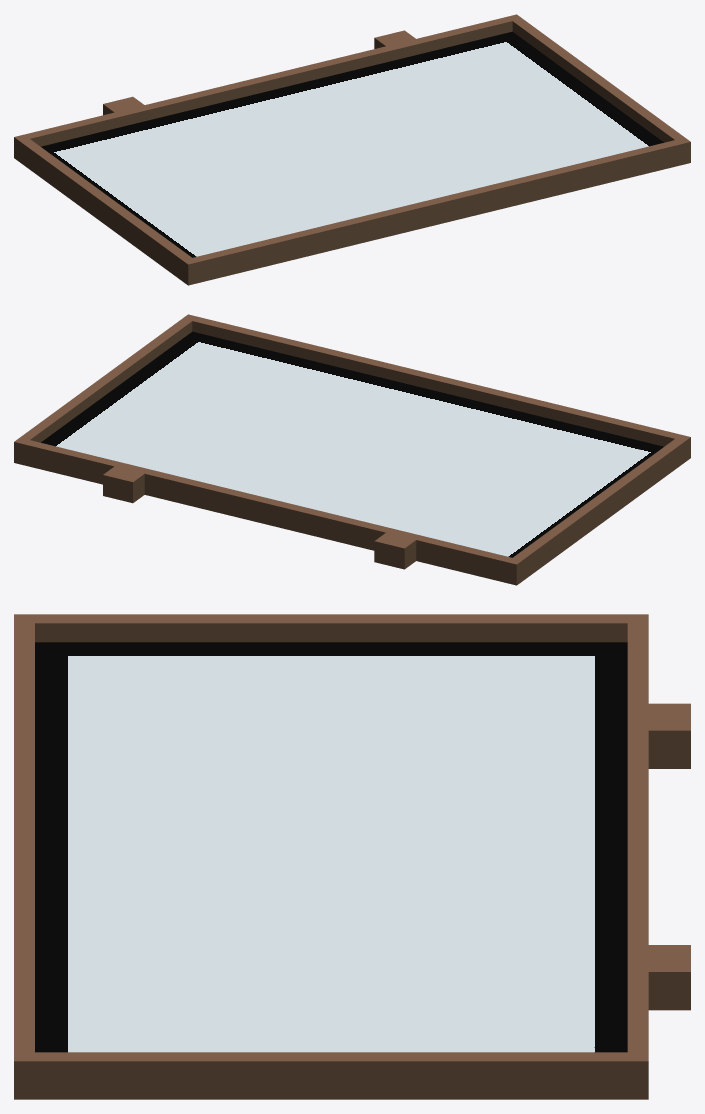
Rendered from picture_frame.fbx.
The picture shows the model from 3 angles, top to bottom: view 1: azimuth 30°, elevation 25°; view 2: azimuth 150°, elevation 25°; view 3: azimuth 270°, elevation 25°; orthographic projection. The views are drawn at different scales.
Visible parts, largest first — view 1: cube, cube_3, cube_4, cube_1, cube_2, cube_5, cube_6; view 2: cube, cube_4, cube_3, cube_1, cube_2, cube_6, cube_5; view 3: cube, cube_2, cube_1, cube_4, cube_3, cube_5, cube_6.
Part boxes in pixels (x1=…): cube: x1=41, y1=31, x2=663, y2=257; cube_3: x1=193, y1=137, x2=690, y2=282; cube_4: x1=14, y1=14, x2=521, y2=161; cube_1: x1=19, y1=139, x2=198, y2=285; cube_2: x1=512, y1=18, x2=684, y2=142; cube_5: x1=374, y1=30, x2=415, y2=48; cube_6: x1=103, y1=96, x2=144, y2=115; cube: x1=41, y1=331, x2=663, y2=557; cube_4: x1=14, y1=437, x2=522, y2=585; cube_3: x1=183, y1=314, x2=680, y2=446; cube_1: x1=513, y1=434, x2=690, y2=580; cube_2: x1=20, y1=318, x2=192, y2=442; cube_6: x1=374, y1=532, x2=416, y2=569; cube_5: x1=103, y1=466, x2=144, y2=503; cube: x1=35, y1=642, x2=627, y2=1052; cube_2: x1=35, y1=1052, x2=627, y2=1099; cube_1: x1=14, y1=614, x2=627, y2=642; cube_4: x1=627, y1=614, x2=648, y2=1099; cube_3: x1=14, y1=623, x2=34, y2=1099; cube_5: x1=648, y1=945, x2=690, y2=1010; cube_6: x1=648, y1=703, x2=690, y2=768.
Bounding box in the file's own units: 312 × 12.5 × 200.
Materials: 1 (1 with a texture image).
